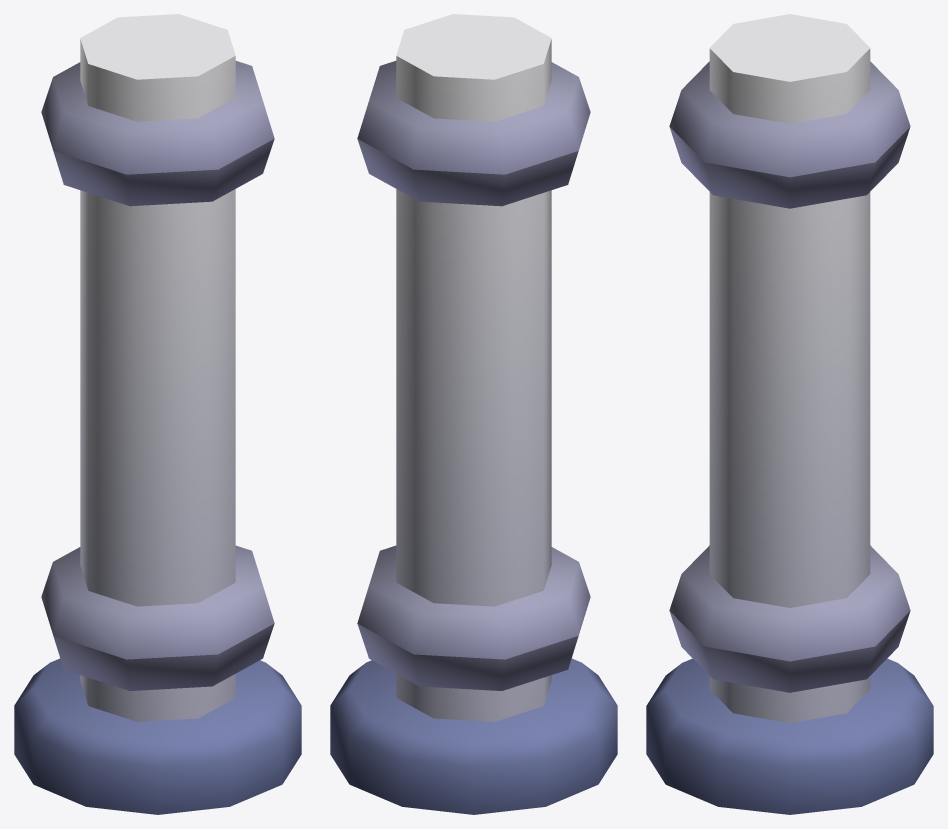
The model's file is kenney-space-template-detail.glb.
3 views of the same model, side by side, from view 1: azimuth 30°, elevation 25°; view 2: azimuth 150°, elevation 25°; view 3: azimuth 270°, elevation 25° (orthographic).
Parts seen in each view (by area): view 1: template-detail; view 2: template-detail; view 3: template-detail.
Part boxes in pixels (bbox=[...]): template-detail: bbox=[14, 14, 301, 814]; template-detail: bbox=[330, 14, 617, 814]; template-detail: bbox=[646, 14, 933, 814].
Size of the model in its own units: 1.17 by 3.17 by 1.17.
Materials: 1 (1 with a texture image).
